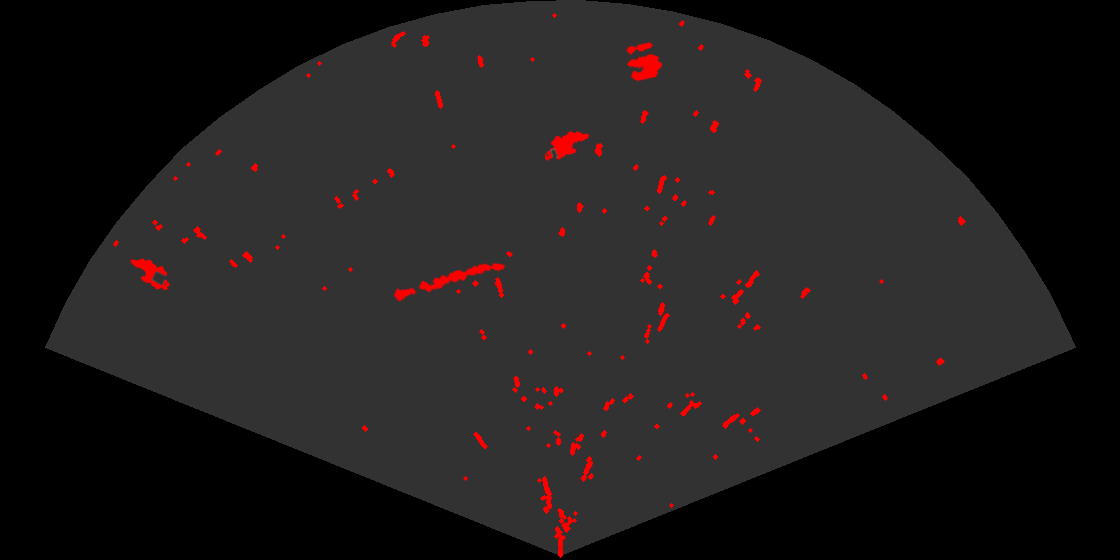AUV: (129, 257, 171, 292), (545, 130, 591, 161)
ball: (624, 41, 664, 83)
chain: (392, 261, 507, 303)
